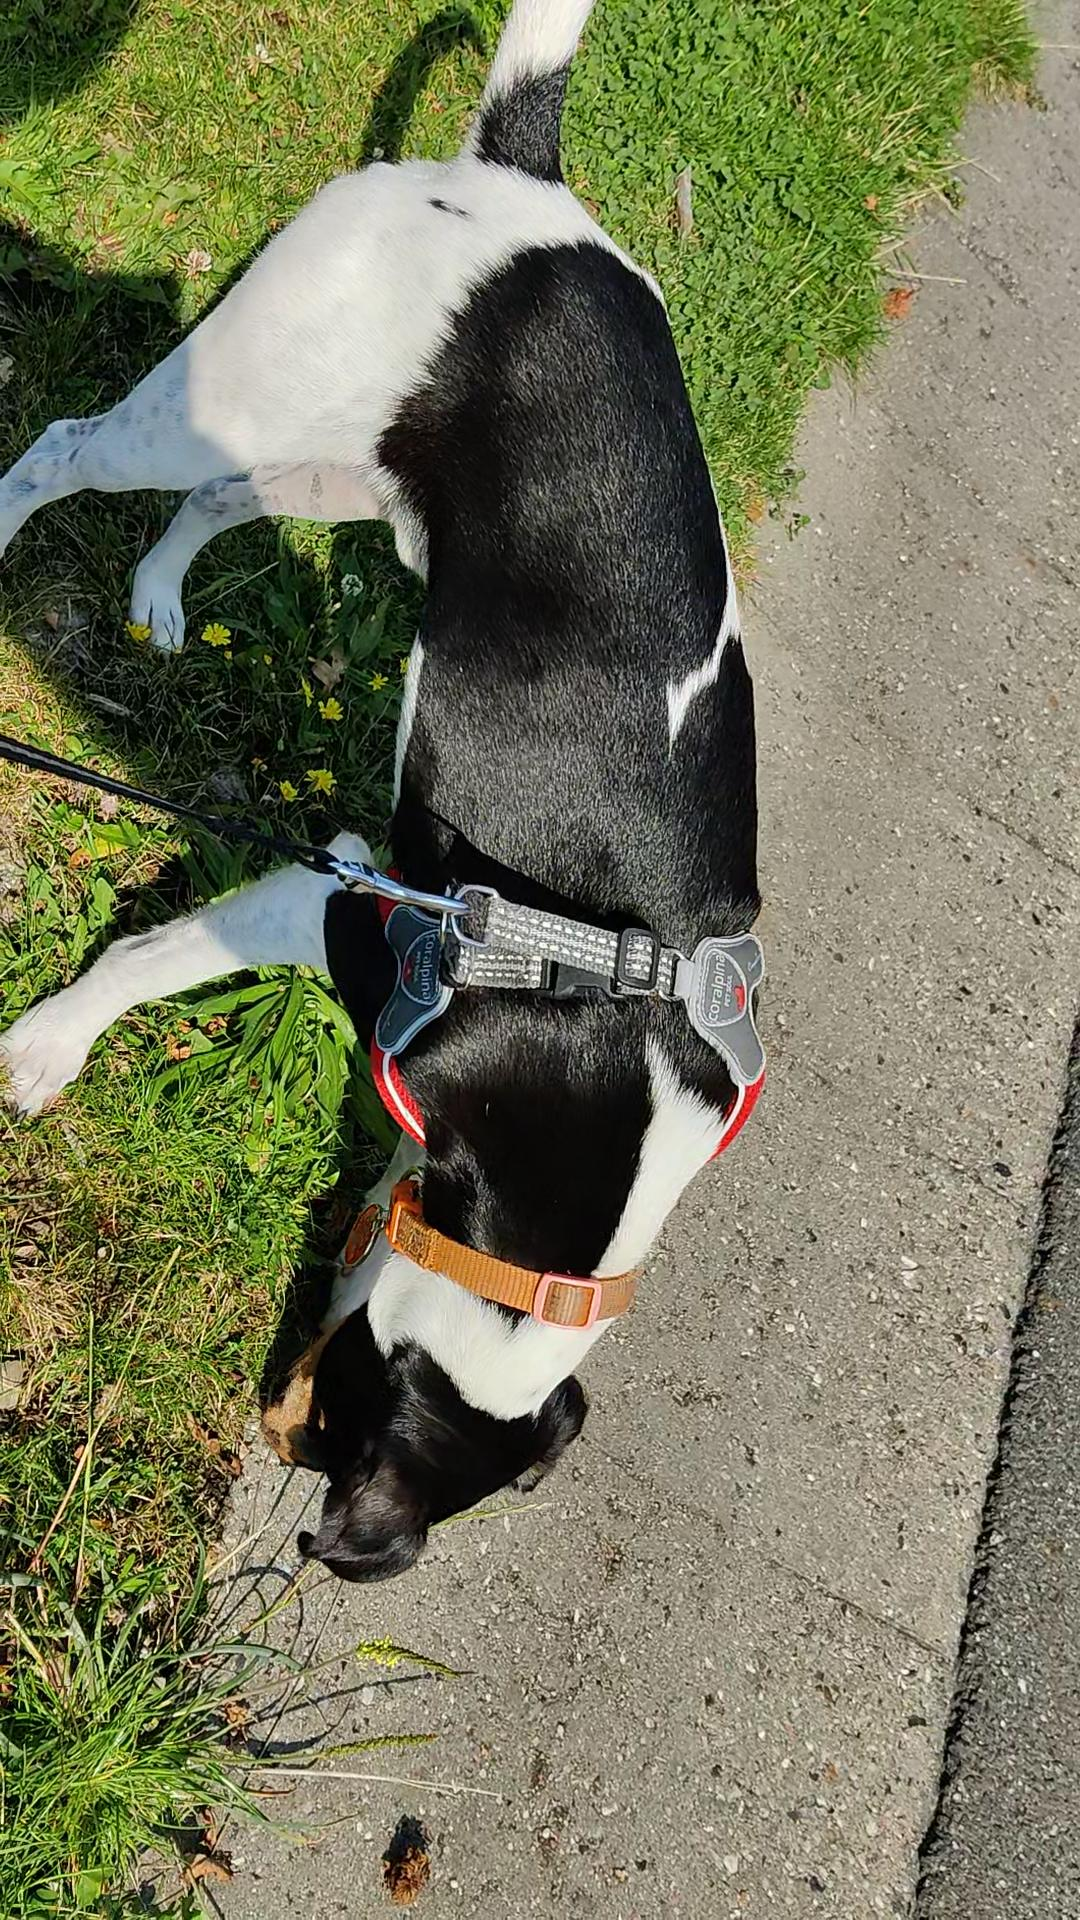Dog: (0, 0, 794, 1597)
